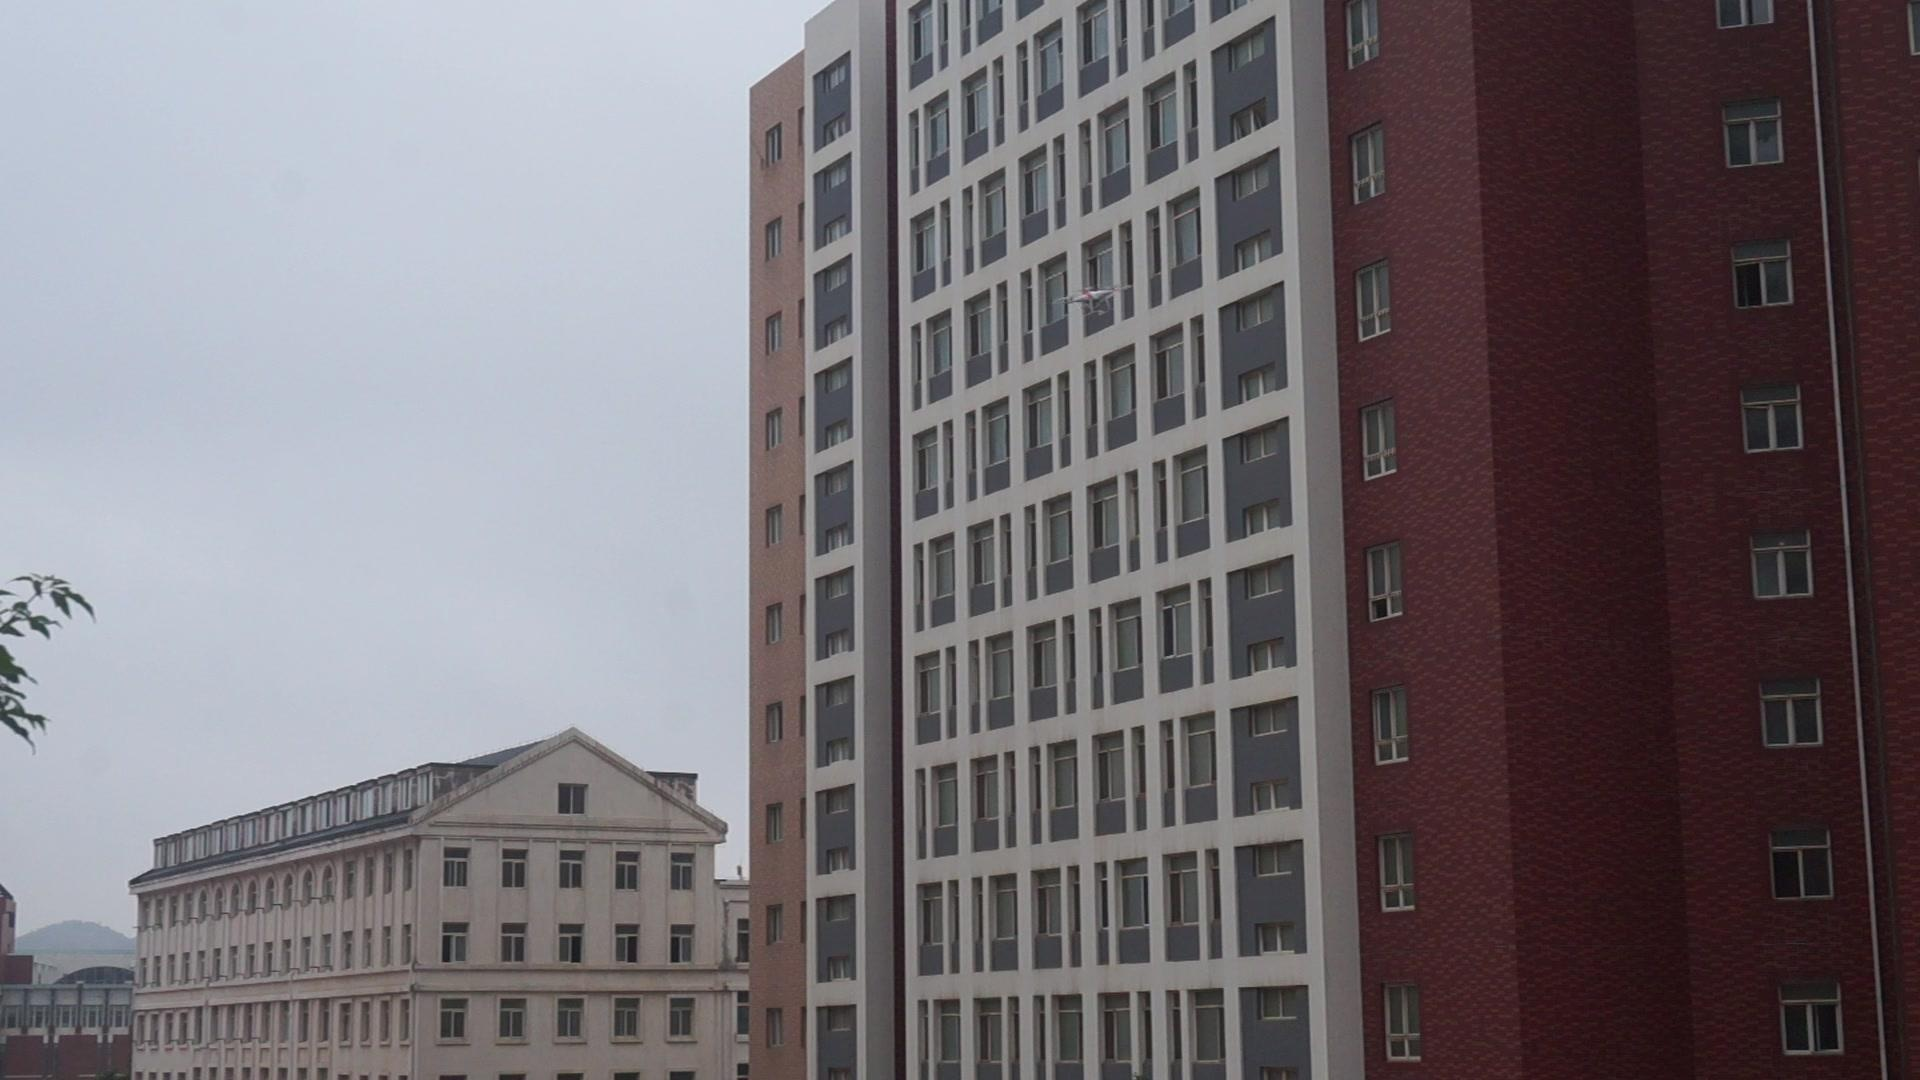UAV: (1055, 285, 1134, 316)
